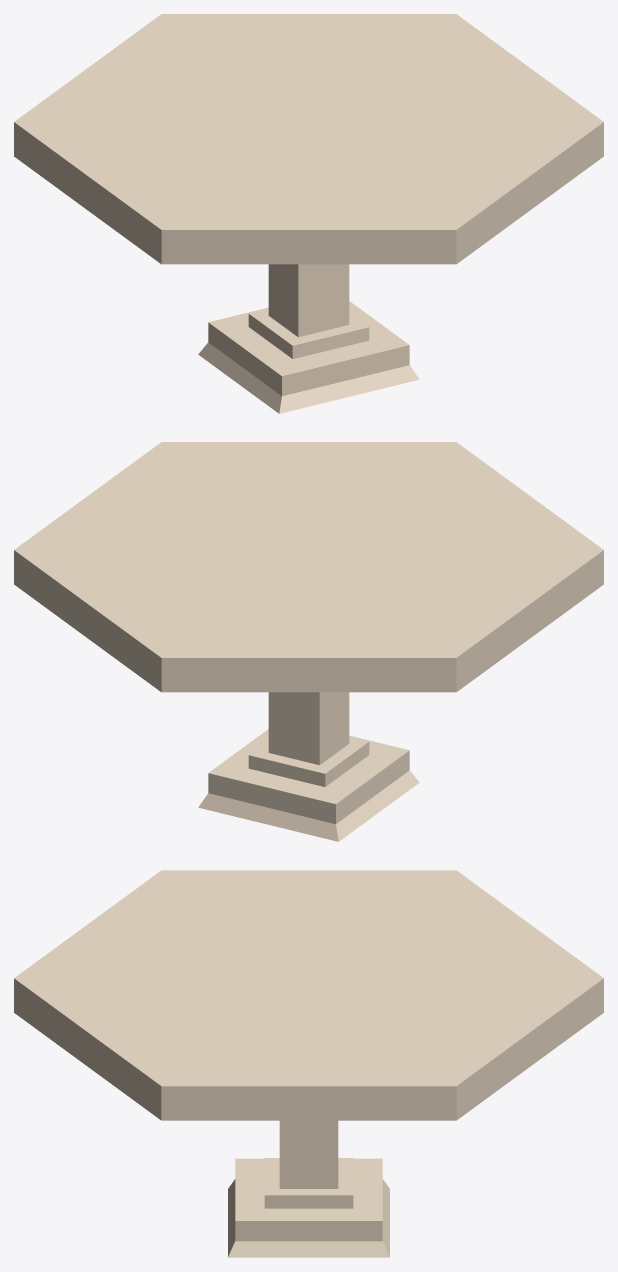
Rendered from furn_teatable.glb.
3 views of the same model, one above another, from view 1: azimuth 30°, elevation 25°; view 2: azimuth 150°, elevation 25°; view 3: azimuth 270°, elevation 25° (orthographic).
Parts seen in each view (by area): view 1: teatable; view 2: teatable; view 3: teatable.
Part boxes in pixels (<box>): teatable: <box>14,14,603,413</box>; teatable: <box>14,442,603,841</box>; teatable: <box>14,870,603,1257</box>.
Size of the model in its own units: 1.28 by 0.68 by 1.48.
